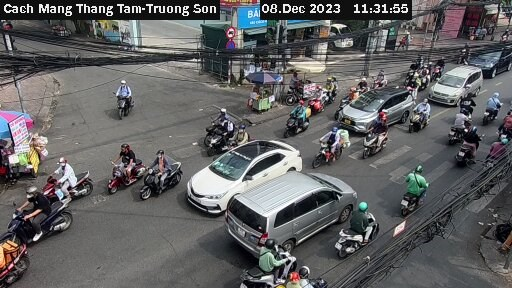car: (226, 175, 358, 248), (183, 138, 300, 207), (334, 82, 415, 132), (428, 64, 484, 105), (471, 42, 512, 75)
motorbike: (12, 183, 74, 247), (386, 167, 438, 224), (336, 207, 390, 260), (238, 243, 300, 285), (310, 127, 367, 171), (47, 160, 100, 200), (137, 158, 187, 199), (360, 127, 411, 162), (100, 85, 148, 121), (100, 144, 143, 183), (282, 103, 325, 138), (204, 114, 249, 145), (295, 258, 331, 288), (406, 100, 440, 131), (455, 142, 490, 171), (479, 89, 508, 123), (301, 85, 333, 113), (447, 115, 472, 145)
